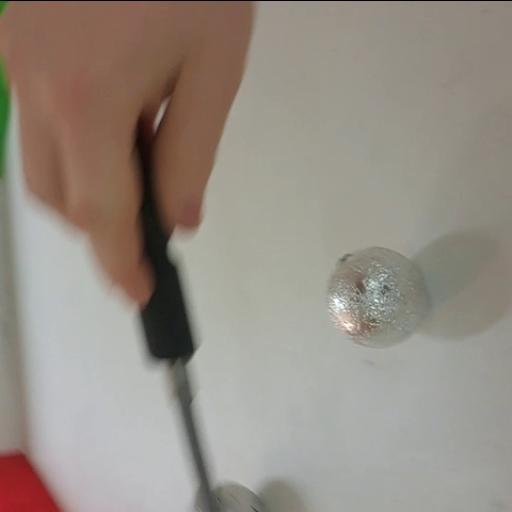alive: (322, 242, 430, 350), (182, 480, 278, 512)
